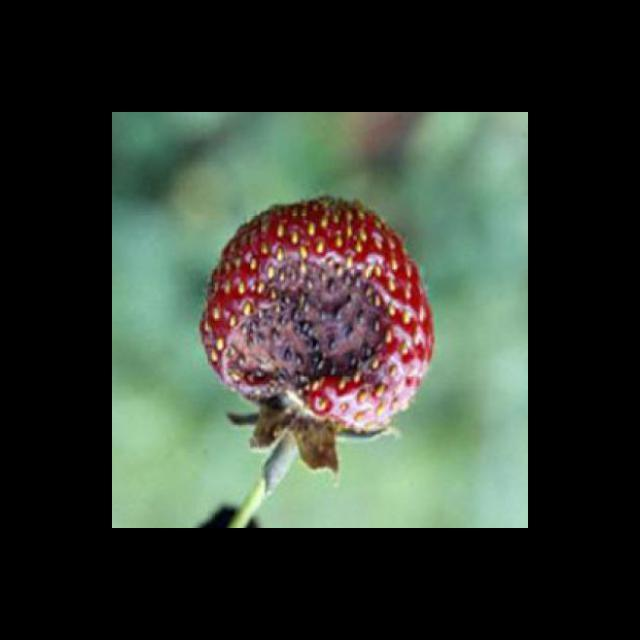Anthracnose Fruit Rot: (218, 252, 399, 414)
